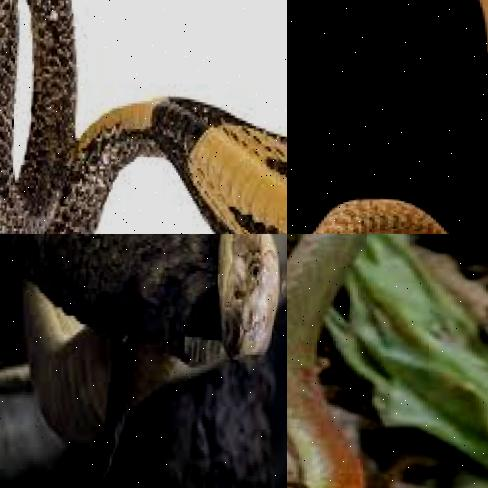snake: (1, 234, 287, 473), (0, 0, 287, 234), (287, 0, 488, 234), (287, 234, 418, 488)
